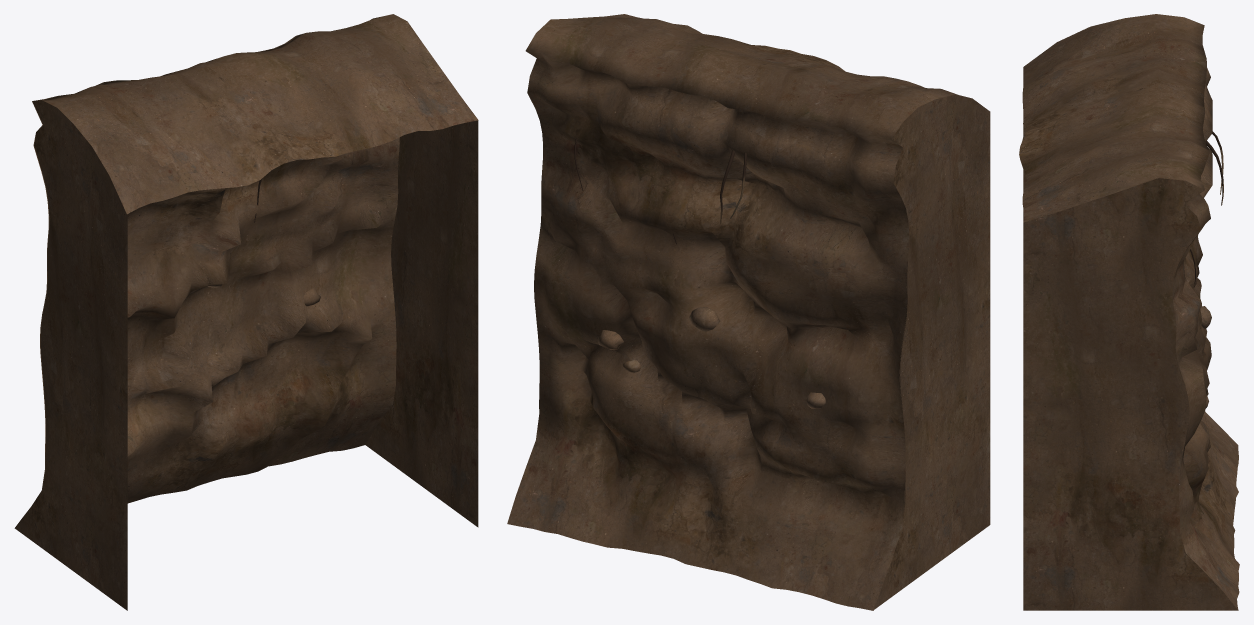
The model's file is S7U_EarthBank_2m.fbx.
The picture shows the model from 3 angles, left to right: view 1: azimuth 30°, elevation 25°; view 2: azimuth 150°, elevation 25°; view 3: azimuth 270°, elevation 25°; orthographic projection. The views are drawn at different scales.
Visible parts, largest first — view 1: S7U_EarthBank_2m; view 2: S7U_EarthBank_2m; view 3: S7U_EarthBank_2m.
Boxes of the visible parts, left/top/right/bottom form: S7U_EarthBank_2m: left=14, top=14, right=478, bottom=610; S7U_EarthBank_2m: left=507, top=14, right=990, bottom=610; S7U_EarthBank_2m: left=1019, top=14, right=1239, bottom=610.
Bounding box in the file's own units: 2 × 2.49 × 1.14.
